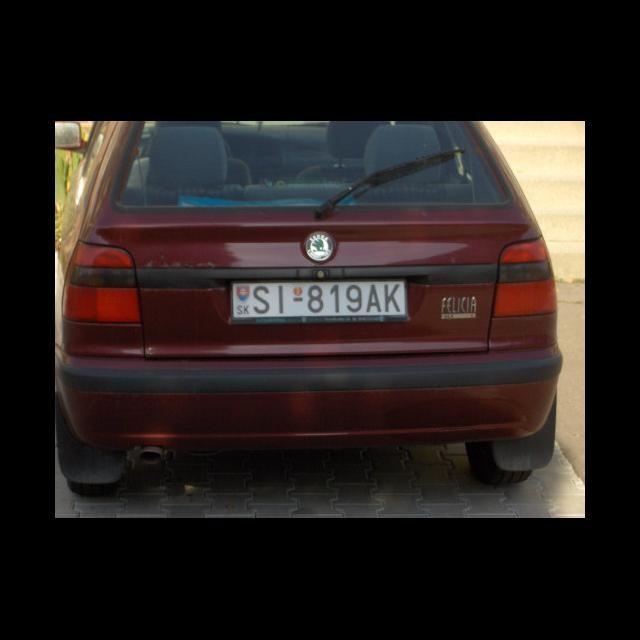Plate: (228, 278, 410, 322)
